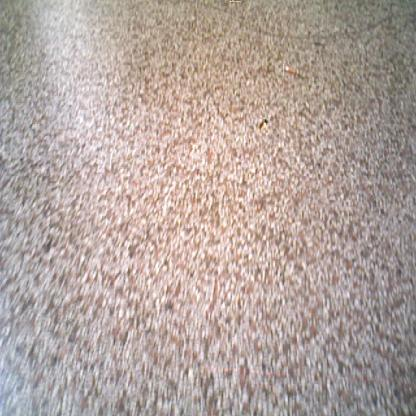dirty: (258, 119, 270, 133), (283, 64, 296, 76), (230, 1, 241, 2)
